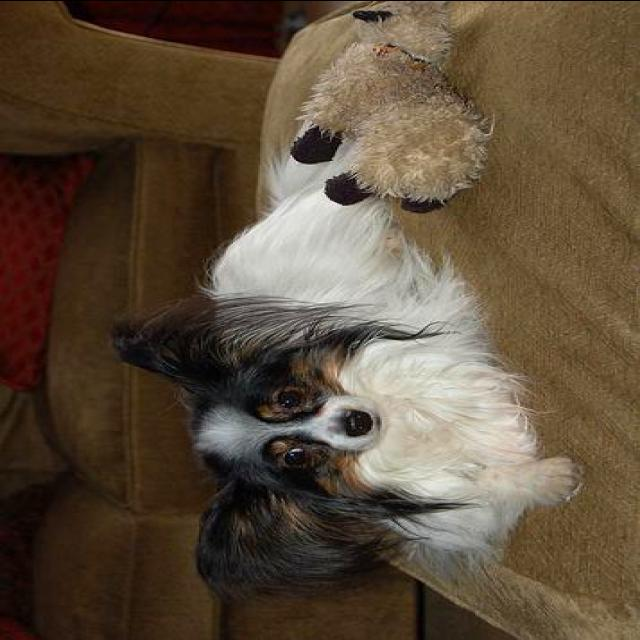papillon: (108, 128, 586, 603)
